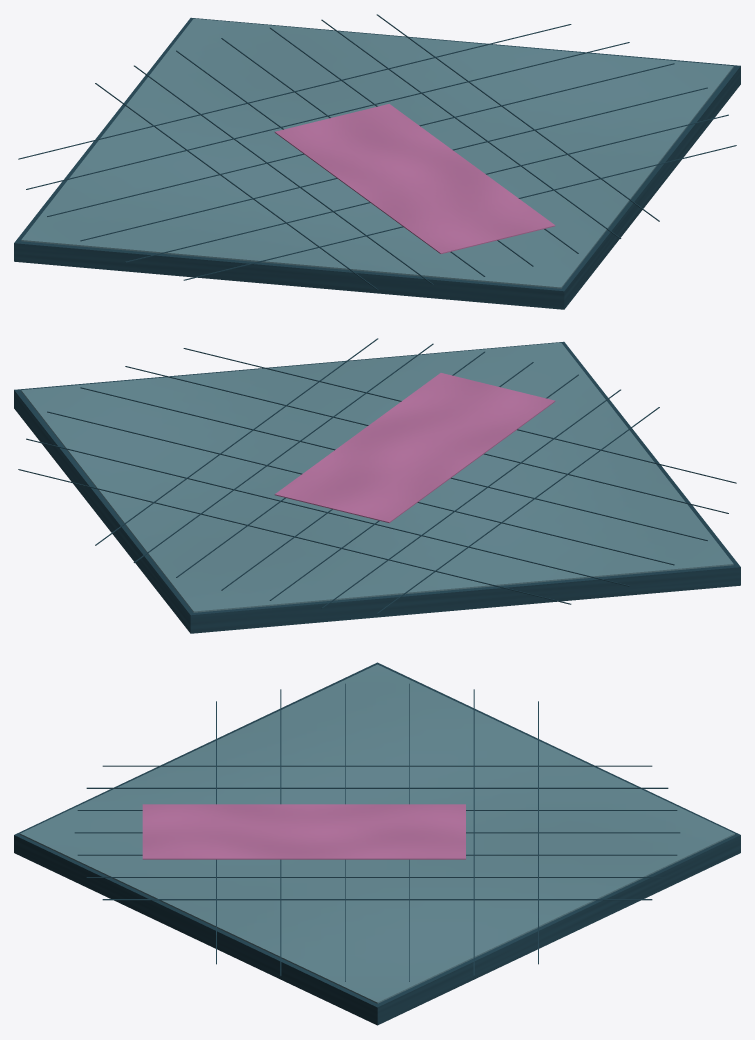
File: atlas100-s065-a07.lod2.glb
3 renders of one model, top to bottom at view 1: azimuth 30°, elevation 25°; view 2: azimuth 150°, elevation 25°; view 3: azimuth 270°, elevation 25°, orthographic. The views are drawn at different scales.
Parts seen in each view (by area): view 1: atlas100-s065-a07:part-001, atlas100-s065-a07:part-021, atlas100-s065-a07:part-000, atlas100-s065-a07:part-015, atlas100-s065-a07:part-014, atlas100-s065-a07:part-017, atlas100-s065-a07:part-016, atlas100-s065-a07:part-018, atlas100-s065-a07:part-019, atlas100-s065-a07:part-009, atlas100-s065-a07:part-005, atlas100-s065-a07:part-010 (+1 smaller); view 2: atlas100-s065-a07:part-001, atlas100-s065-a07:part-021, atlas100-s065-a07:part-000, atlas100-s065-a07:part-015, atlas100-s065-a07:part-014, atlas100-s065-a07:part-016, atlas100-s065-a07:part-017, atlas100-s065-a07:part-018, atlas100-s065-a07:part-019, atlas100-s065-a07:part-009, atlas100-s065-a07:part-005, atlas100-s065-a07:part-010 (+1 smaller); view 3: atlas100-s065-a07:part-001, atlas100-s065-a07:part-021, atlas100-s065-a07:part-000, atlas100-s065-a07:part-005, atlas100-s065-a07:part-004, atlas100-s065-a07:part-010.
Part boxes in pixels (x1=…): atlas100-s065-a07:part-001: x1=21, y1=18, x2=733, y2=288; atlas100-s065-a07:part-021: x1=274, y1=104, x2=555, y2=253; atlas100-s065-a07:part-000: x1=14, y1=17, x2=740, y2=309; atlas100-s065-a07:part-015: x1=26, y1=42, x2=629, y2=189; atlas100-s065-a07:part-014: x1=18, y1=24, x2=571, y2=159; atlas100-s065-a07:part-017: x1=80, y1=87, x2=707, y2=241; atlas100-s065-a07:part-016: x1=47, y1=63, x2=674, y2=216; atlas100-s065-a07:part-018: x1=125, y1=114, x2=728, y2=262; atlas100-s065-a07:part-019: x1=183, y1=145, x2=736, y2=280; atlas100-s065-a07:part-009: x1=321, y1=19, x2=621, y2=238; atlas100-s065-a07:part-005: x1=134, y1=65, x2=433, y2=284; atlas100-s065-a07:part-010: x1=376, y1=14, x2=659, y2=221; atlas100-s065-a07:part-001: x1=21, y1=342, x2=733, y2=612; atlas100-s065-a07:part-021: x1=274, y1=373, x2=555, y2=523; atlas100-s065-a07:part-000: x1=14, y1=341, x2=740, y2=633; atlas100-s065-a07:part-015: x1=26, y1=438, x2=629, y2=586; atlas100-s065-a07:part-014: x1=18, y1=469, x2=571, y2=604; atlas100-s065-a07:part-016: x1=47, y1=411, x2=674, y2=565; atlas100-s065-a07:part-017: x1=80, y1=387, x2=707, y2=540; atlas100-s065-a07:part-018: x1=125, y1=366, x2=728, y2=513; atlas100-s065-a07:part-019: x1=183, y1=348, x2=736, y2=483; atlas100-s065-a07:part-009: x1=133, y1=343, x2=433, y2=562; atlas100-s065-a07:part-005: x1=321, y1=389, x2=620, y2=608; atlas100-s065-a07:part-010: x1=95, y1=338, x2=378, y2=545; atlas100-s065-a07:part-001: x1=20, y1=664, x2=734, y2=1003; atlas100-s065-a07:part-021: x1=142, y1=804, x2=465, y2=859; atlas100-s065-a07:part-000: x1=14, y1=662, x2=740, y2=1025; atlas100-s065-a07:part-005: x1=86, y1=787, x2=668, y2=788; atlas100-s065-a07:part-004: x1=102, y1=765, x2=652, y2=766; atlas100-s065-a07:part-010: x1=102, y1=899, x2=652, y2=900.
Bounding box in the file's own units: 13.95 × 0.404 × 12.42.
Materials: 3 (3 with a texture image).
